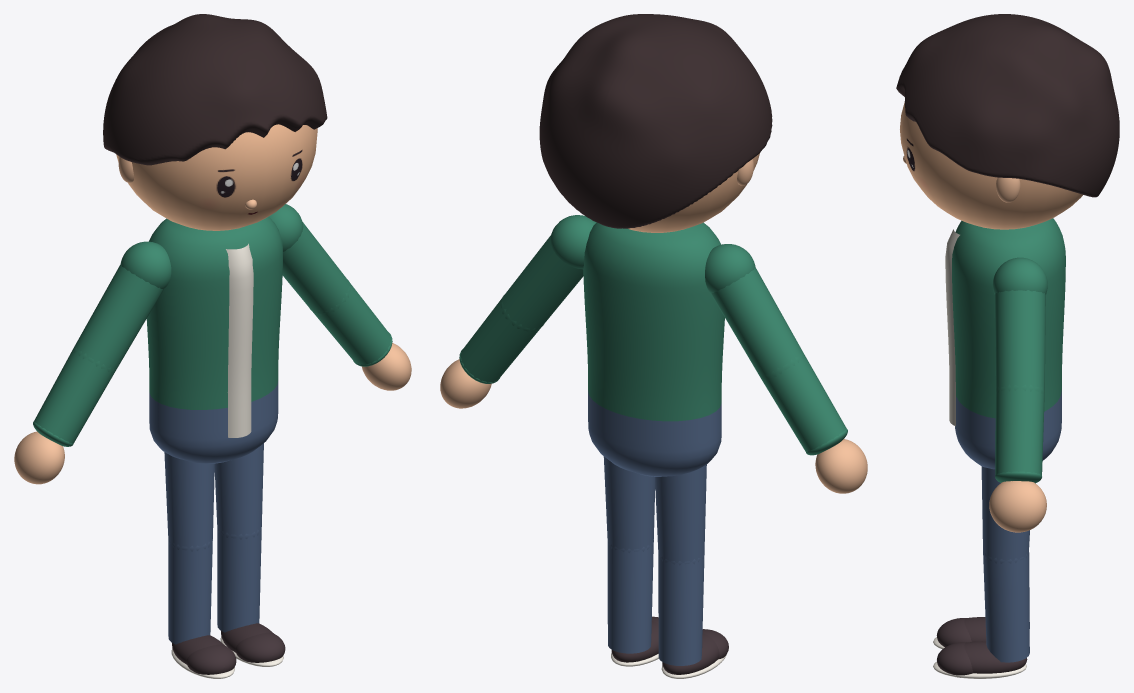
The model's file is qing_young.glb.
The picture shows the model from 3 angles, left to right: view 1: azimuth 30°, elevation 25°; view 2: azimuth 150°, elevation 25°; view 3: azimuth 270°, elevation 25°; orthographic projection. The views are drawn at different scales.
Visible parts, largest first — view 1: hair, torso, head, upper_arm_R, pelvis, upper_arm_L, thigh_R, lower_arm_R, shin_R, shin_L, thigh_L, lower_arm_L (+4 smaller); view 2: hair, torso, pelvis, upper_arm_R, upper_arm_L, shin_L, shin_R, lower_arm_R, thigh_R, thigh_L, lower_arm_L, head (+4 smaller); view 3: hair, torso, head, upper_arm_L, lower_arm_L, shin_L, pelvis, hand_L, shoe_L, thigh_L, shoe_R.
Part boxes in pixels (<box>): hair: <box>103,14,327,165</box>; torso: <box>146,216,282,437</box>; head: <box>116,124,317,230</box>; upper_arm_R: <box>72,241,171,373</box>; pelvis: <box>149,381,278,463</box>; upper_arm_L: <box>269,204,350,315</box>; thigh_R: <box>164,452,214,551</box>; lower_arm_R: <box>33,348,113,446</box>; shin_R: <box>168,540,212,644</box>; shin_L: <box>217,529,261,632</box>; thigh_L: <box>214,443,263,539</box>; lower_arm_L: <box>313,282,392,366</box>; hair: <box>539,14,772,228</box>; torso: <box>583,222,724,421</box>; pelvis: <box>588,391,721,476</box>; upper_arm_R: <box>705,244,805,381</box>; upper_arm_L: <box>500,215,596,332</box>; shin_L: <box>607,543,653,653</box>; shin_R: <box>658,554,704,665</box>; lower_arm_R: <box>762,354,847,455</box>; thigh_R: <box>655,464,706,565</box>; thigh_L: <box>603,456,655,552</box>; lower_arm_L: <box>459,298,540,383</box>; head: <box>628,153,759,232</box>; hair: <box>896,14,1119,197</box>; torso: <box>945,218,1065,426</box>; head: <box>900,102,1082,229</box>; upper_arm_L: <box>992,257,1047,393</box>; lower_arm_L: <box>995,387,1044,483</box>; shin_L: <box>983,552,1029,662</box>; pelvis: <box>955,391,1061,469</box>; hand_L: <box>989,481,1046,532</box>; shoe_L: <box>933,641,1027,678</box>; thigh_L: <box>981,466,1029,563</box>; shoe_R: <box>933,617,986,649</box>.
Bounding box in the file's own units: 1.18 × 1.77 × 0.5636.
9 materials, 1 textured.
